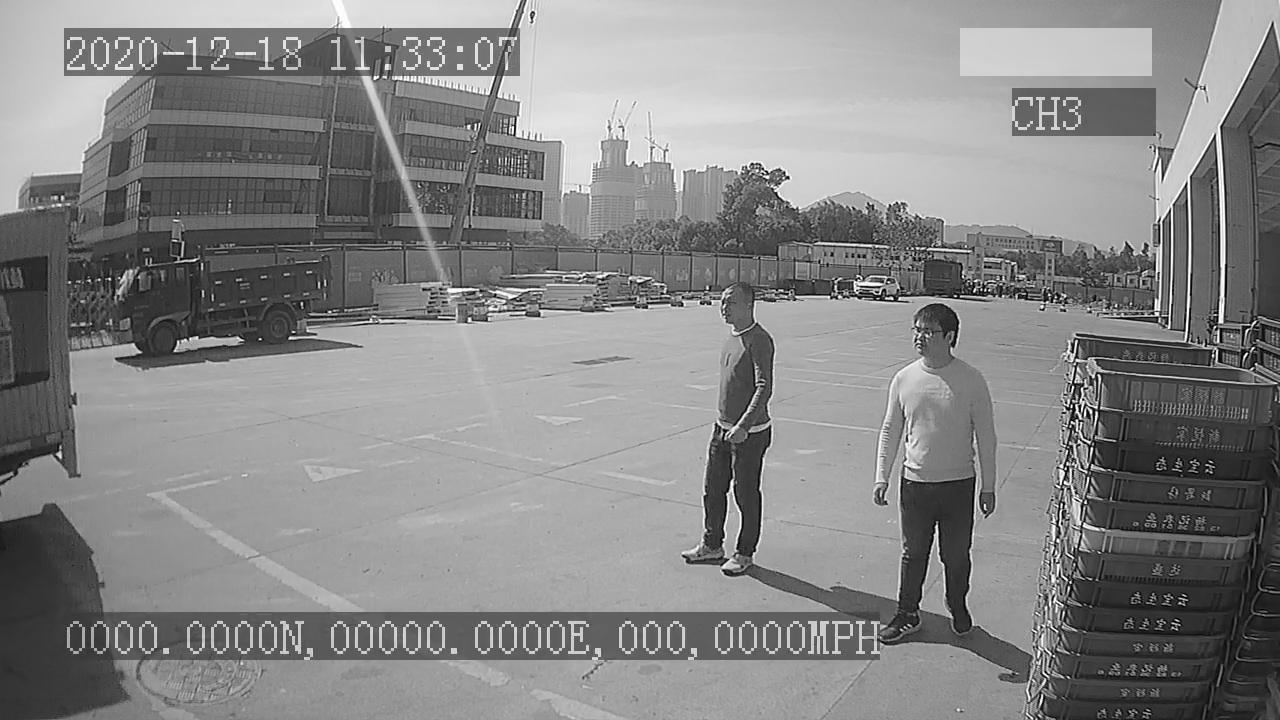person: (680, 274, 782, 575)
